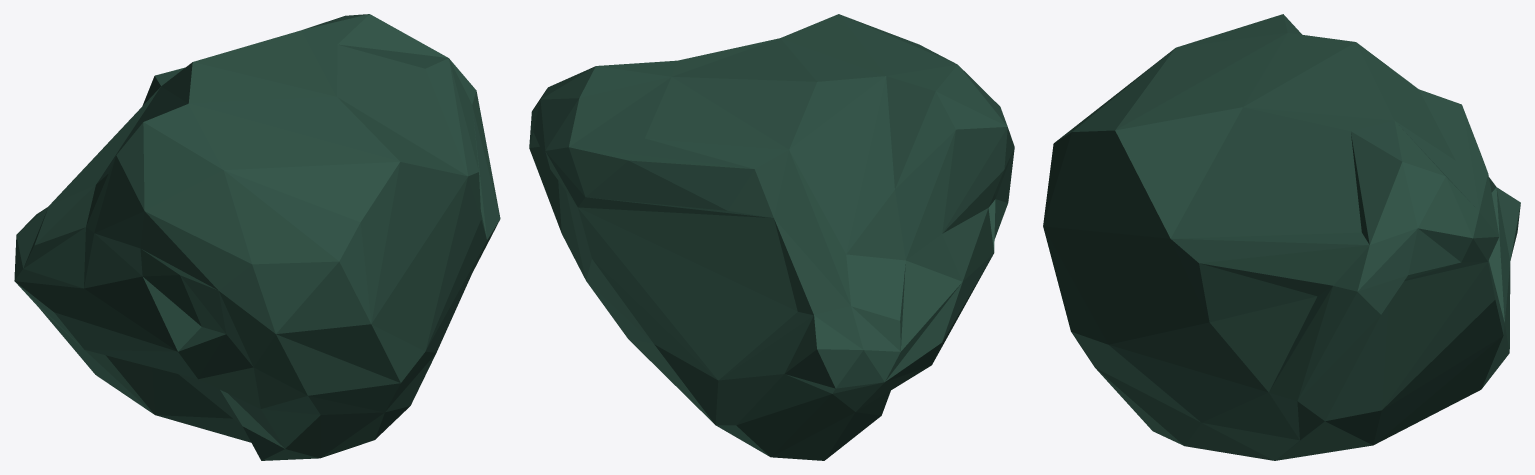
Rendered from SM_large_rock_28.fbx.
The picture shows the model from 3 angles, left to right: view 1: azimuth 30°, elevation 25°; view 2: azimuth 150°, elevation 25°; view 3: azimuth 270°, elevation 25°; orthographic projection. The views are drawn at different scales.
Parts seen in each view (by area): view 1: large_rock_28; view 2: large_rock_28; view 3: large_rock_28.
Boxes of the visible parts, x1,y1,x2,y2 form: large_rock_28: (14,14,500,460); large_rock_28: (529,14,1014,460); large_rock_28: (1043,14,1520,460).
Size of the model in its own units: 59.29 by 45.52 by 56.04.
